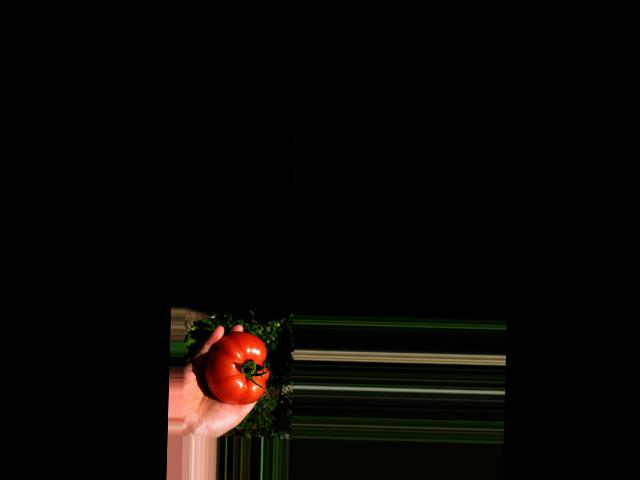tomato: (204, 330, 270, 405)
